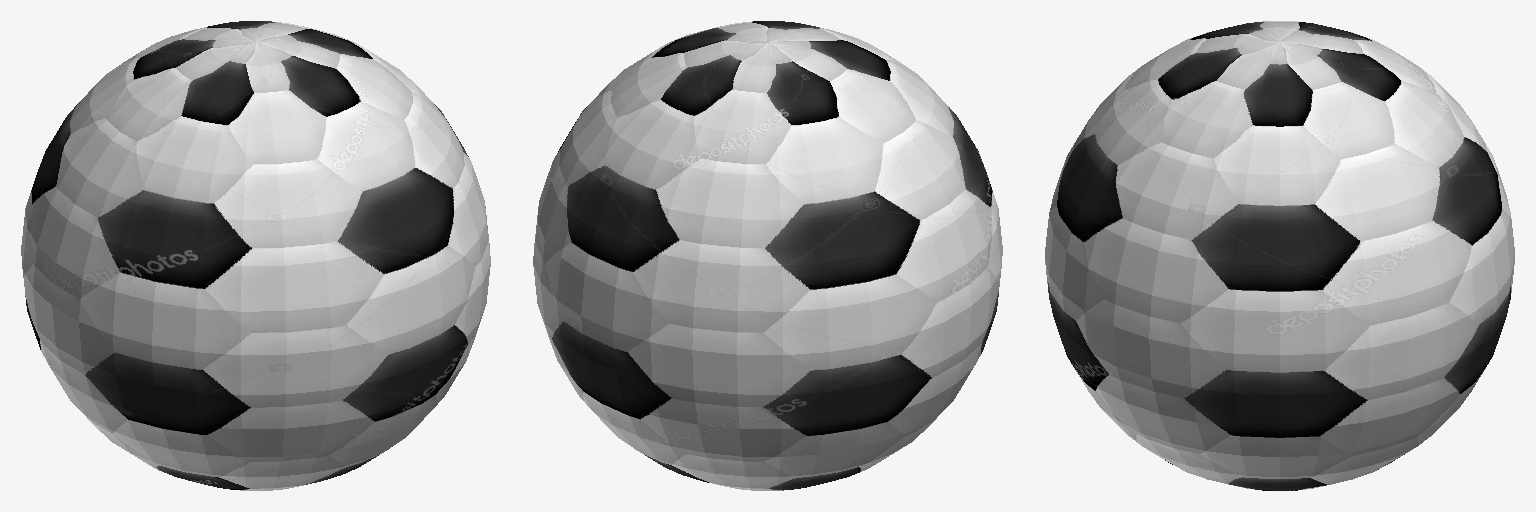
3 renders of one model, left to right at view 1: azimuth 30°, elevation 25°; view 2: azimuth 150°, elevation 25°; view 3: azimuth 270°, elevation 25°, orthographic.
Parts seen in each view (by area): view 1: Sphere; view 2: Sphere; view 3: Sphere.
Part boxes in pixels (x1,y1,x2,y2): Sphere: (21, 21, 490, 490); Sphere: (533, 21, 1002, 490); Sphere: (1045, 21, 1514, 490).
Bounding box in the file's own units: 0.101 × 0.101 × 0.101.
1 materials, 1 textured.